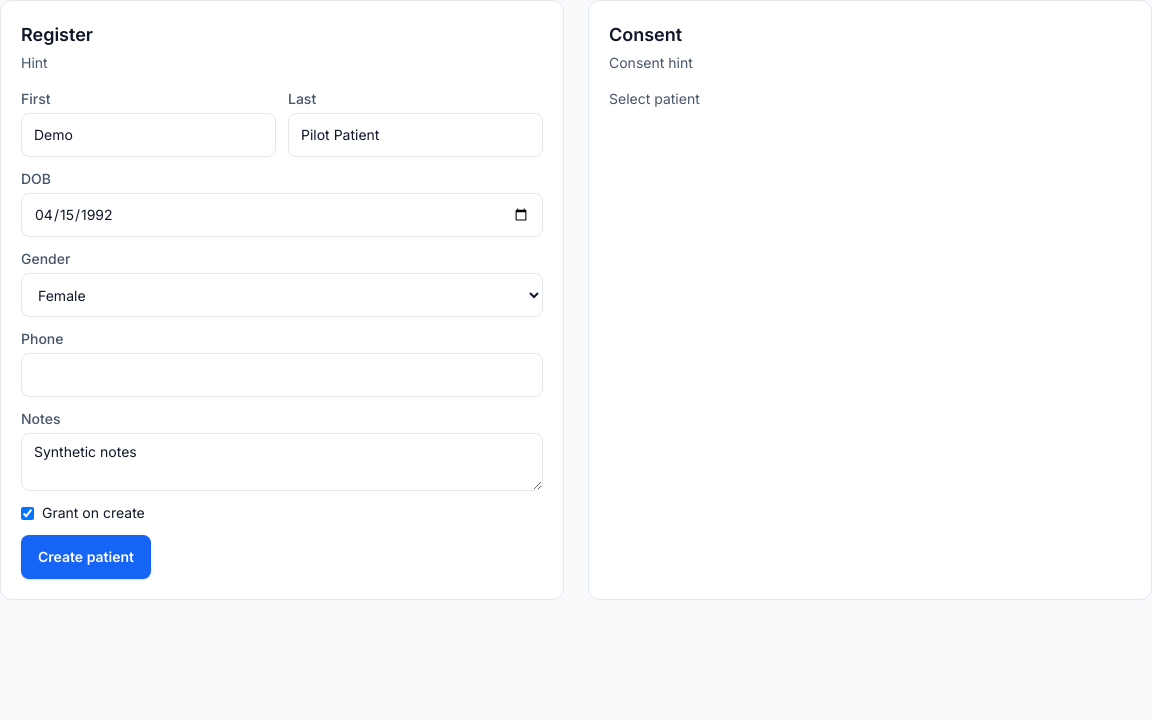
Test case: PatientOnboardingPanel › shows accessible success message and notifies parent
This screenshot has width=1152, height=720.
Click the button "Create patient". click: [86, 557]
box: top-left (21, 535), bottom-right (151, 579)
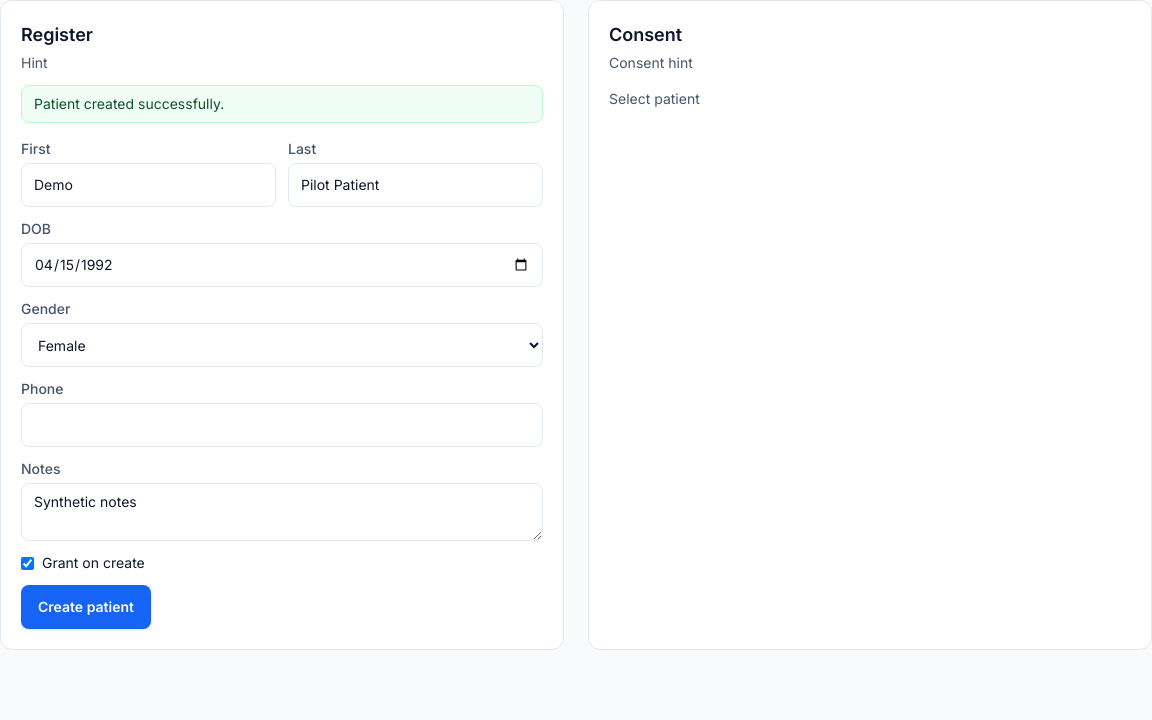
Expected: the message reads "Patient created successfully.", top-left (34, 95), bottom-right (224, 112)
